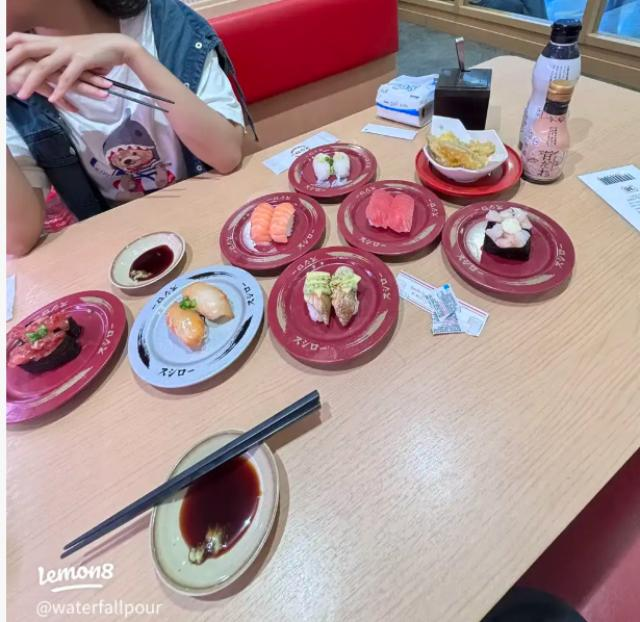janred: (429, 199, 577, 303), (0, 299, 133, 414), (259, 251, 409, 348), (216, 201, 322, 276), (408, 128, 526, 193), (337, 199, 440, 269), (297, 138, 370, 199)
janwhite: (120, 277, 270, 393)
